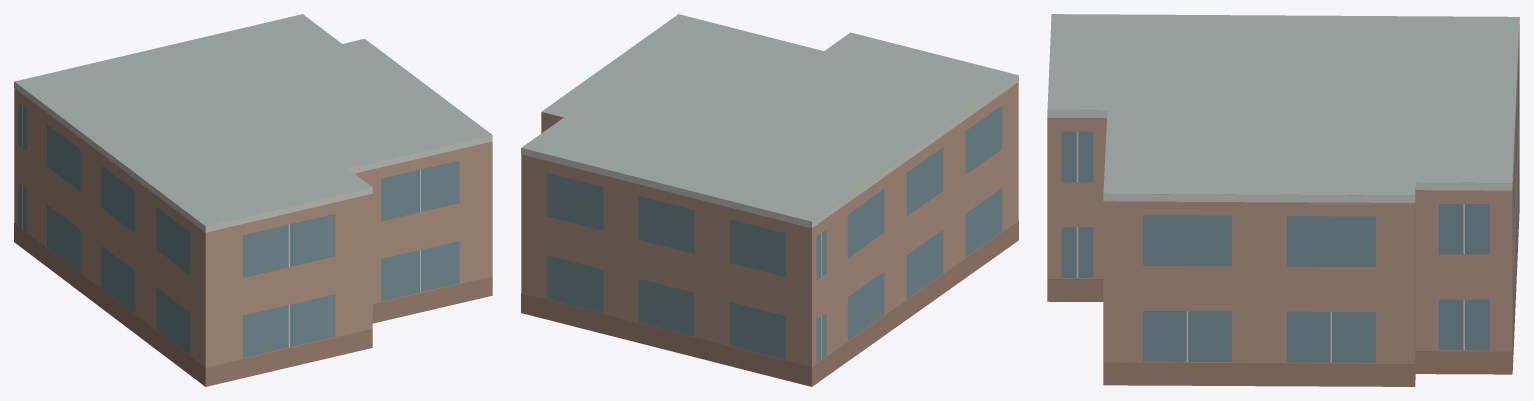
The model's file is survey-upis-32813409.glb.
The picture shows the model from 3 angles, left to right: view 1: azimuth 30°, elevation 25°; view 2: azimuth 150°, elevation 25°; view 3: azimuth 270°, elevation 25°; orthographic projection. The views are drawn at different scales.
Visible parts, largest first — view 1: survey-upis-32813409.tmp; view 2: survey-upis-32813409.tmp; view 3: survey-upis-32813409.tmp.
Boxes of the visible parts, x1,y1,x2,y2 form: survey-upis-32813409.tmp: (14,14,492,386); survey-upis-32813409.tmp: (521,14,1018,386); survey-upis-32813409.tmp: (1047,14,1519,386).
Bounding box in the file's own units: 12.4 × 6.1 × 13.64.
